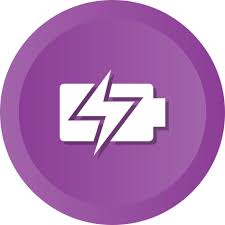charging sign: (47, 60, 184, 160)
